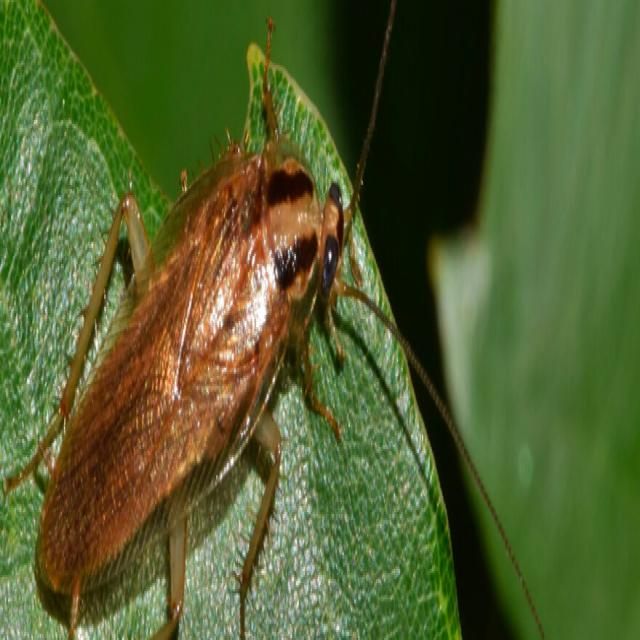Cockroach: (21, 42, 414, 640)
